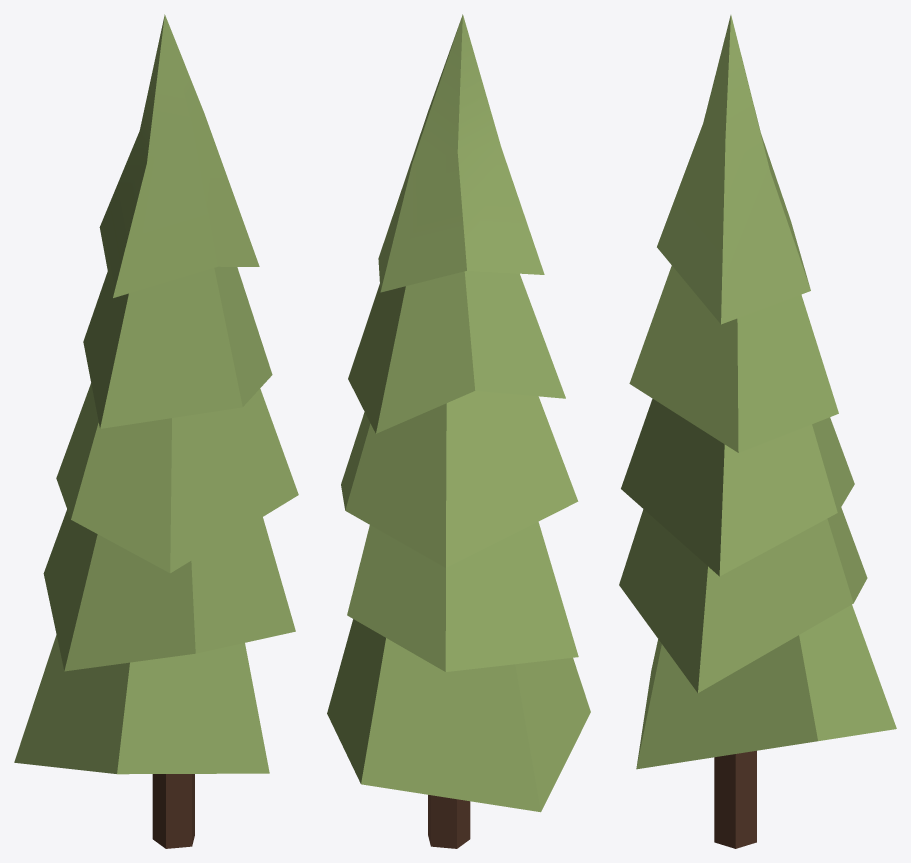
Rendered from tree_03.fbx.
3 renders of one model, left to right at view 1: azimuth 30°, elevation 25°; view 2: azimuth 150°, elevation 25°; view 3: azimuth 270°, elevation 25°, orthographic.
Parts seen in each view (by area): view 1: tree_03; view 2: tree_03; view 3: tree_03.
Part boxes in pixels (left/top/right/bottom): tree_03: left=14, top=14, right=298, bottom=848; tree_03: left=327, top=14, right=590, bottom=848; tree_03: left=619, top=15, right=896, bottom=848.
Size of the model in its own units: 2.02 by 6.62 by 2.04.
